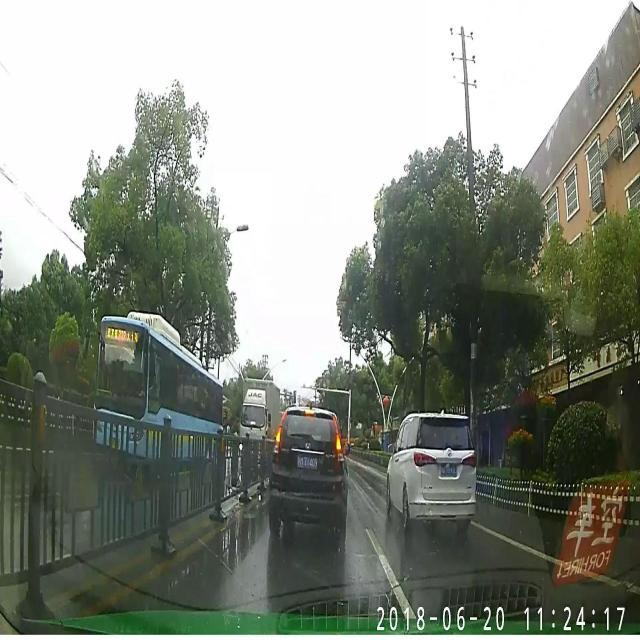car: (385, 412, 477, 538), (267, 400, 349, 537), (235, 376, 284, 453)
